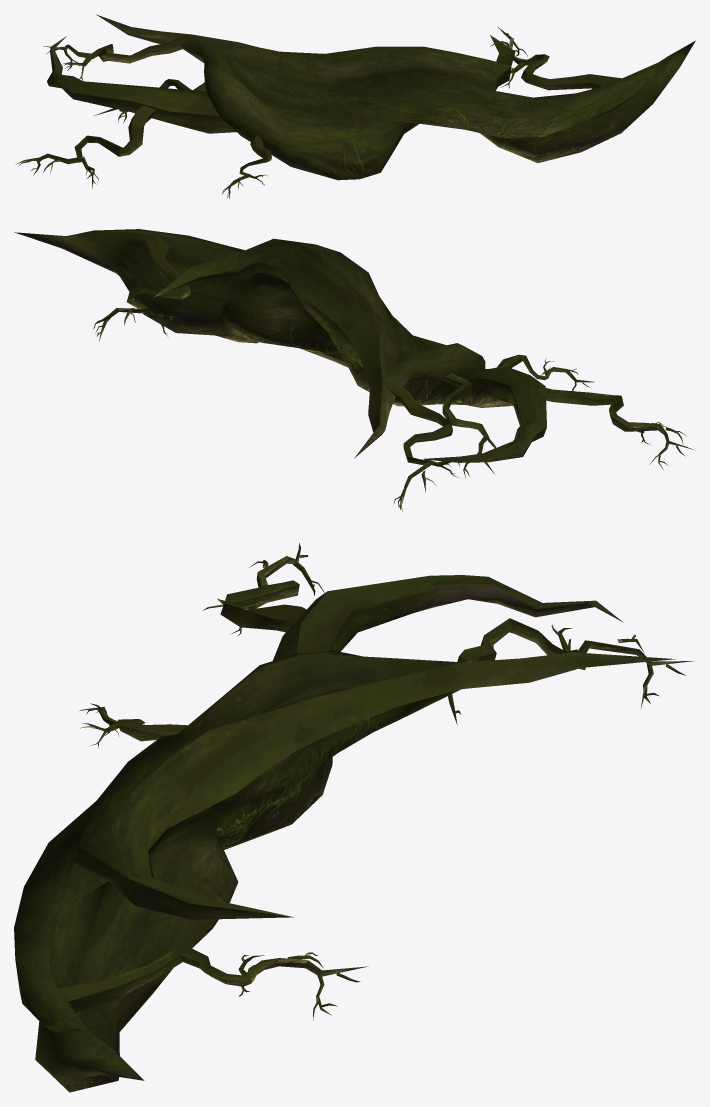
Rendered from 4002_Item_shu_1.FBX.
3 views of the same model, one above another, from view 1: azimuth 30°, elevation 25°; view 2: azimuth 150°, elevation 25°; view 3: azimuth 270°, elevation 25° (orthographic). The views are drawn at different scales.
Visible parts, largest first — view 1: 4002_Item_shu_1; view 2: 4002_Item_shu_1; view 3: 4002_Item_shu_1.
Boxes of the visible parts, left/top/right/bottom form: 4002_Item_shu_1: left=16, top=14, right=695, bottom=198; 4002_Item_shu_1: left=14, top=229, right=693, bottom=511; 4002_Item_shu_1: left=14, top=543, right=693, bottom=1092.
Size of the model in its own units: 2213 by 400 by 1178.
